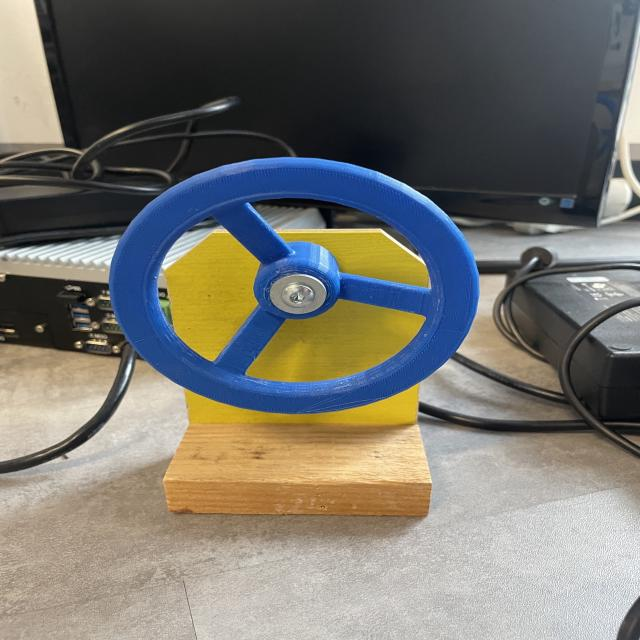Wheel Handle Valve Threaded: (107, 155, 482, 423)
